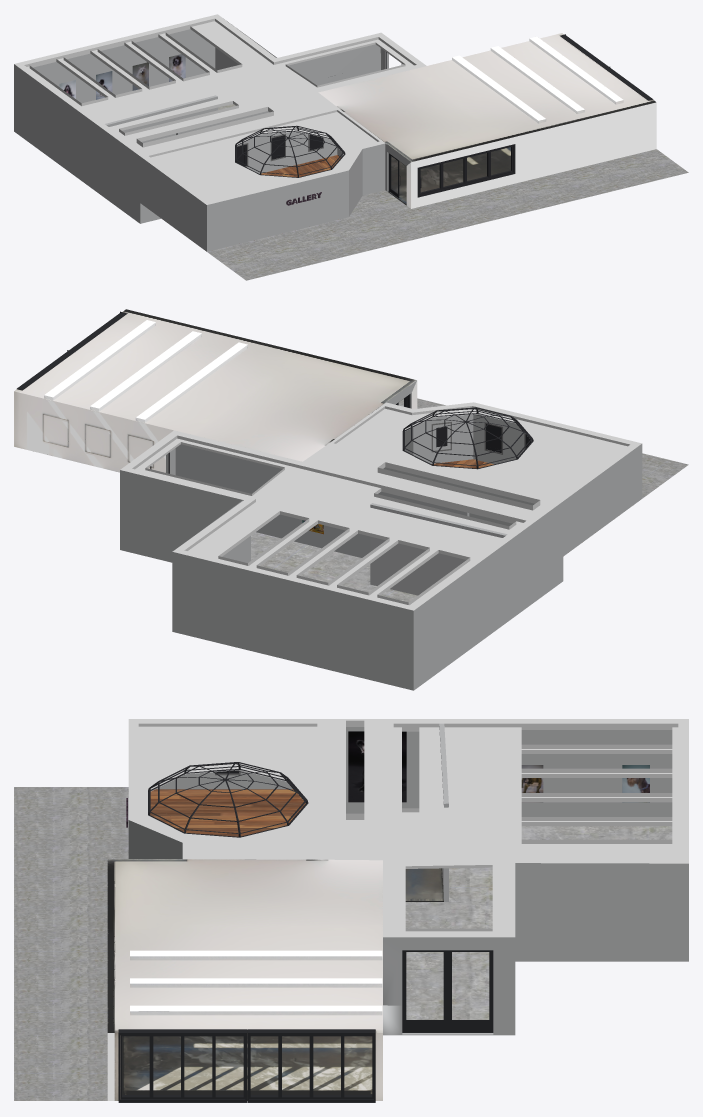
File: art-gallery7.glb
3 renders of one model, top to bottom at view 1: azimuth 30°, elevation 25°; view 2: azimuth 150°, elevation 25°; view 3: azimuth 270°, elevation 25°, orthographic. The views are drawn at different scales.
Parts seen in each view (by area): view 1: Paredes, Teto.001, ParedesPrincipais, Chao_fora, Chao_entrada, LuzesEmission, Todos os quadros, Sphere.002, Janelas_entrada, Chao_madeira; view 2: Paredes, Teto.001, ParedesPrincipais, Chao_inferior, LuzesEmission, Sphere.002, Chao_fora, Todos os quadros; view 3: Teto.001, ParedesPrincipais, Paredes, Chao_fora, Chao_entrada, Chao_inferior, Chao_madeira, LuzesEmission, Janelas, Janelas.001, Sphere.002, Todos os quadros (+1 smaller).
Boxes of the visible parts, box(x1,y1,x2,y2) form: Paredes: box(14, 21, 410, 251); Teto.001: box(14, 14, 426, 204); ParedesPrincipais: box(318, 33, 656, 208); Chao_fora: box(207, 149, 688, 280); Chao_entrada: box(338, 137, 510, 205); LuzesEmission: box(452, 36, 623, 120); Todos os quadros: box(59, 54, 389, 202); Sphere.002: box(235, 125, 345, 177); Janelas_entrada: box(417, 144, 515, 197); Chao_madeira: box(261, 155, 340, 177); Paredes: box(120, 380, 642, 690); Teto.001: box(120, 402, 641, 610); ParedesPrincipais: box(14, 309, 417, 472); Chao_inferior: box(251, 532, 417, 602); LuzesEmission: box(44, 320, 247, 419); Sphere.002: box(402, 407, 533, 469); Chao_fora: box(374, 398, 688, 498); Todos os quadros: box(302, 394, 531, 534); Teto.001: box(128, 719, 688, 937); ParedesPrincipais: box(107, 859, 382, 1100); Paredes: box(108, 723, 688, 1035); Chao_fora: box(14, 787, 128, 1100); Chao_entrada: box(122, 868, 443, 1100); Chao_inferior: box(405, 826, 672, 1019); Chao_madeira: box(150, 789, 305, 836); LuzesEmission: box(130, 950, 382, 1011); Janelas: box(247, 1029, 375, 1102); Janelas.001: box(118, 1029, 246, 1102); Sphere.002: box(148, 762, 308, 837); Todos os quadros: box(126, 731, 649, 818).
Size of what is drawn, in the model's own units: 62.24 by 11.01 by 56.35.
Materials: 30 (18 with a texture image).
